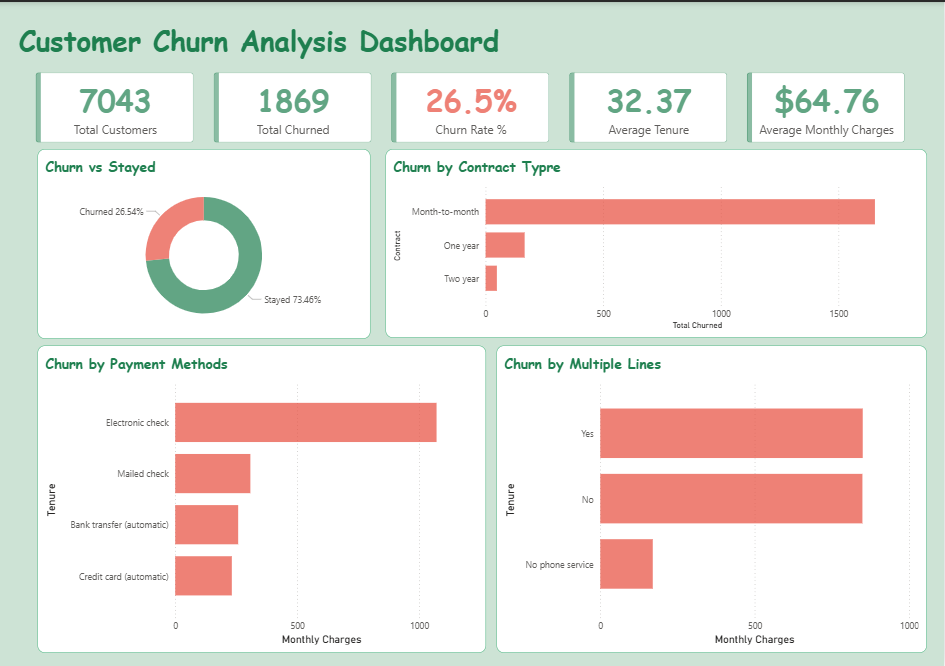

The dashboard page shown, as its layout file describes it:
{"tool":"powerbi","page":{"name":"Overview","canvas":[1280,900],"ordinal":0},"visuals":[{"type":"textbox","box":[20.8,20.8,691.7,66.1],"z":0},{"type":"cardVisual","fields":{"Data":["All Measures.Total Customers","All Measures.Total Churned","All Measures.Churn Rate %","All Measures.Average Tenure","All Measures.Average Monthly Charges"]},"box":[20.8,86.9,1235.9,111.5],"z":1000},{"type":"donutChart","title":"Churn vs Stayed","fields":{"Y":["All Measures.Total Customers"],"Category":["telco_churn_for_dashboard.Churn_txt"]},"box":[51,198.4,451.7,257],"z":1001},{"type":"clusteredBarChart","title":"Churn by Contract Typre","fields":{"Category":["telco_churn_for_dashboard.Contract"],"Y":["All Measures.Total Churned"]},"box":[522.5,199.3,734,256.2],"z":1002},{"type":"clusteredBarChart","title":"Churn by Payment Methods","fields":{"Category":["telco_churn_for_dashboard.PaymentMethod"],"Y":["All Measures.Total Churned"]},"box":[50.8,465.6,607.9,416.8],"z":1003},{"type":"clusteredBarChart","title":"Churn by Multiple Lines","fields":{"Category":["telco_churn_for_dashboard.MultipleLines"],"Y":["All Measures.Total Churned"]},"box":[673,465.6,583.5,416.8],"z":1004}]}

Visuals, with their boxes in screenshot pixels (x1, y1, x2, y2), scaled from the page's 1280x900 canvas onto the 945x666 screenshot:
textbox: detection(15, 15, 526, 64)
cardVisual - All Measures.Total Customers x All Measures.Total Churned: detection(15, 64, 928, 147)
"Churn vs Stayed" donutChart: detection(38, 147, 371, 337)
"Churn by Contract Typre" clusteredBarChart: detection(386, 147, 928, 337)
"Churn by Payment Methods" clusteredBarChart: detection(38, 345, 486, 653)
"Churn by Multiple Lines" clusteredBarChart: detection(497, 345, 928, 653)
